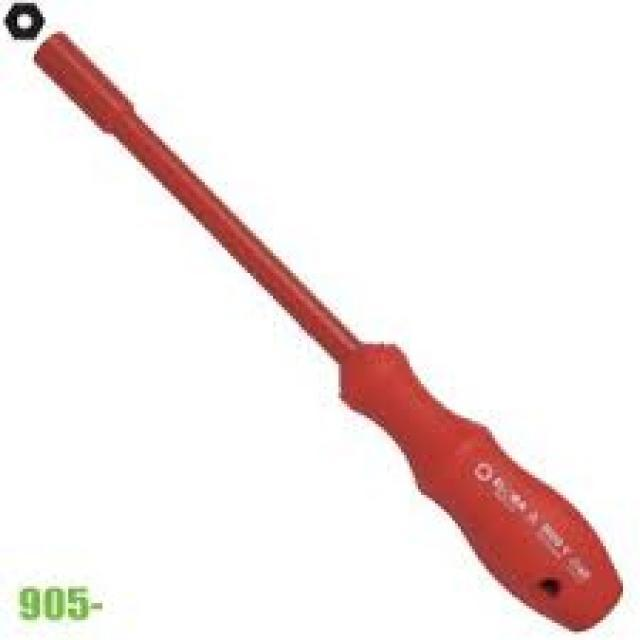screwdriver: (25, 21, 626, 638)
